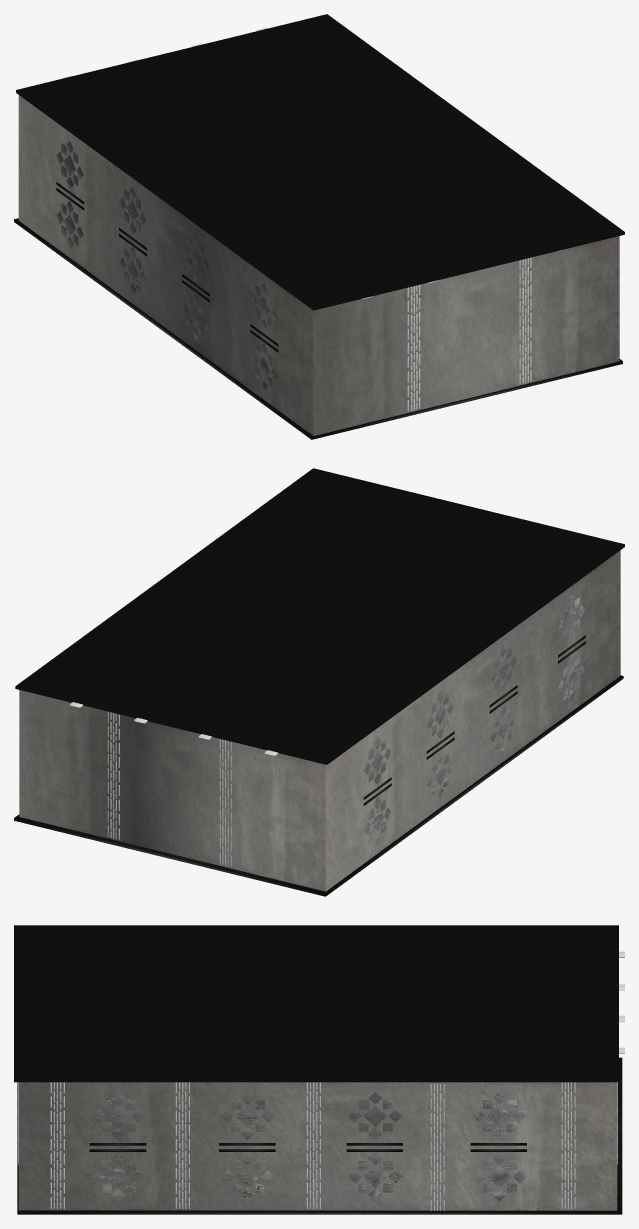
The model's file is Habitaciolvl1.fbx.
3 views of the same model, one above another, from view 1: azimuth 30°, elevation 25°; view 2: azimuth 150°, elevation 25°; view 3: azimuth 270°, elevation 25° (orthographic).
Visible parts, largest first — view 1: Cube, Cubo, Cubo_172, Cubo_017, Cubo_009, Cubo_008; view 2: Cube, Cubo, Cubo_172, Cubo_017, Cubo_007, Cubo_006; view 3: Cube, Cubo, Cubo_052, Cubo_017, Cubo_012, Cubo_011, Cubo_056, Cubo_013, Cubo_014.
Boxes of the visible parts, x1,y1,x2,y2 form: Cube: (16,14,624,310); Cubo: (18,95,619,435); Cubo_172: (56,141,277,390); Cubo_017: (14,218,622,439); Cubo_009: (407,284,420,411); Cubo_008: (519,257,531,384); Cube: (15,468,624,764); Cubo: (19,550,620,891); Cubo_172: (364,595,584,844); Cubo_017: (14,675,623,896); Cubo_007: (219,739,231,866); Cubo_006: (107,711,119,839); Cube: (14,925,618,1082); Cubo: (18,1082,617,1210); Cubo_052: (91,1091,526,1200); Cubo_017: (17,1057,622,1214); Cubo_012: (306,1082,320,1209); Cubo_011: (175,1082,189,1209); Cubo_056: (50,1082,64,1209); Cubo_013: (430,1083,444,1210); Cubo_014: (561,1082,575,1209).
Bounding box in the file's own units: 61.04 × 24.91 × 102.
